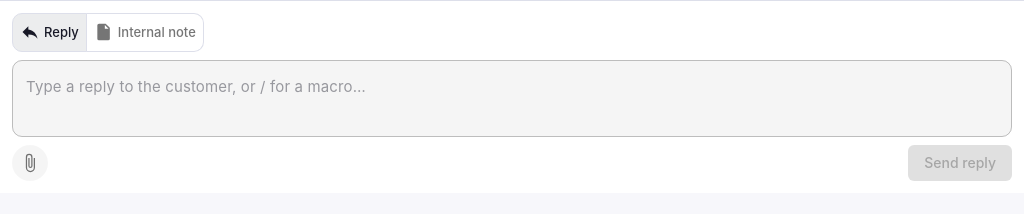
Scenario: MessageComposer macro picker › opens on / and filters by name
In the dropdown labelled "reply": (512, 98) [26, 76, 998, 120], type "/ref"
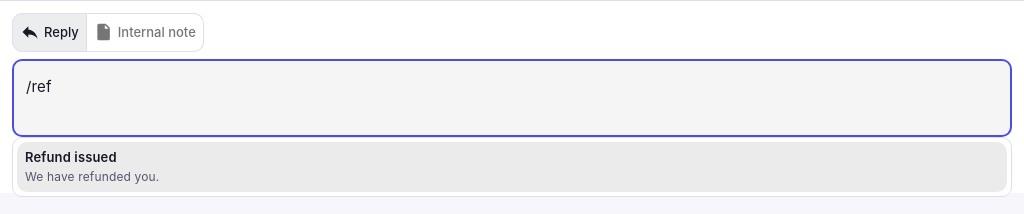
Result: the dropdown named "reply" is expanded at [26, 76, 998, 120]
